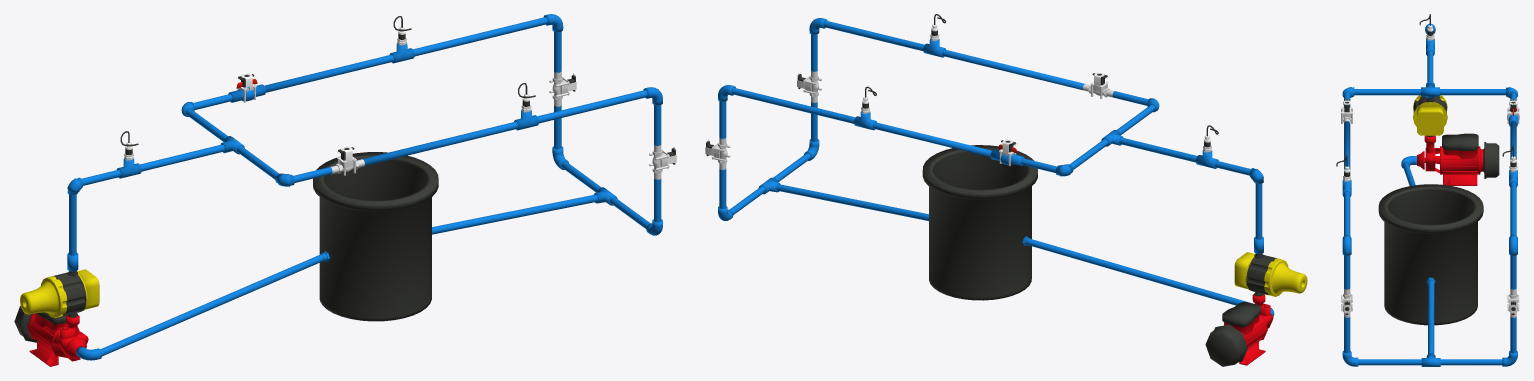
Rendered from silano3.glb.
The picture shows the model from 3 angles, left to right: view 1: azimuth 30°, elevation 25°; view 2: azimuth 150°, elevation 25°; view 3: azimuth 270°, elevation 25°; orthographic projection. The views are drawn at different scales.
Parts seen in each view (by area): view 1: Circle.004, triconnect.023, Circle, triconnect.043, triconnect.039, triconnect.008, triconnect.001, triconnect.002, triconnect.006, triconnect.013, triconnect.035, triconnect.016 (+6 smaller); view 2: Circle.004, Circle, triconnect.023, triconnect.043, triconnect.039, triconnect.008, triconnect.001, triconnect.002, triconnect.006, triconnect.013, triconnect.025, triconnect.035 (+4 smaller); view 3: Circle.004, Circle, triconnect.023, triconnect.013, triconnect.035, triconnect.039, triconnect.025, triconnect.027, triconnect.022, triconnect.001, triconnect.008, triconnect.006 (+13 smaller).
Part boxes in pixels (bbox=[...]): Circle.004: bbox=[313, 152, 438, 321]; triconnect.023: bbox=[20, 269, 99, 317]; Circle: bbox=[14, 306, 88, 366]; triconnect.043: bbox=[100, 254, 323, 356]; triconnect.039: bbox=[432, 194, 597, 234]; triconnect.008: bbox=[362, 121, 518, 165]; triconnect.001: bbox=[413, 17, 547, 56]; triconnect.002: bbox=[264, 54, 393, 92]; triconnect.006: bbox=[537, 90, 647, 123]; triconnect.013: bbox=[186, 108, 279, 179]; triconnect.035: bbox=[561, 161, 650, 228]; triconnect.016: bbox=[140, 144, 224, 171]; Circle.004: bbox=[922, 145, 1037, 300]; Circle: bbox=[1205, 294, 1273, 366]; triconnect.023: bbox=[1234, 252, 1307, 296]; triconnect.043: bbox=[1028, 239, 1252, 305]; triconnect.039: bbox=[776, 184, 928, 220]; triconnect.008: bbox=[942, 49, 1084, 90]; triconnect.001: bbox=[732, 87, 855, 123]; triconnect.002: bbox=[873, 122, 991, 157]; triconnect.006: bbox=[823, 20, 924, 50]; triconnect.013: bbox=[1069, 104, 1155, 169]; triconnect.025: bbox=[719, 101, 726, 208]; triconnect.035: bbox=[729, 153, 810, 214]; Circle.004: bbox=[1378, 184, 1483, 325]; Circle: bbox=[1417, 133, 1499, 185]; triconnect.023: bbox=[1413, 95, 1447, 136]; triconnect.013: bbox=[1354, 89, 1505, 95]; triconnect.035: bbox=[1358, 359, 1502, 365]; triconnect.039: bbox=[1428, 280, 1434, 353]; triconnect.025: bbox=[1510, 255, 1516, 353]; triconnect.027: bbox=[1344, 255, 1350, 353]; triconnect.022: bbox=[1336, 14, 1517, 181]; triconnect.001: bbox=[1510, 181, 1516, 235]; triconnect.008: bbox=[1344, 121, 1350, 169]; triconnect.006: bbox=[1344, 191, 1350, 235].
Size of the model in its own units: 83.24 by 30.19 by 26.45.
